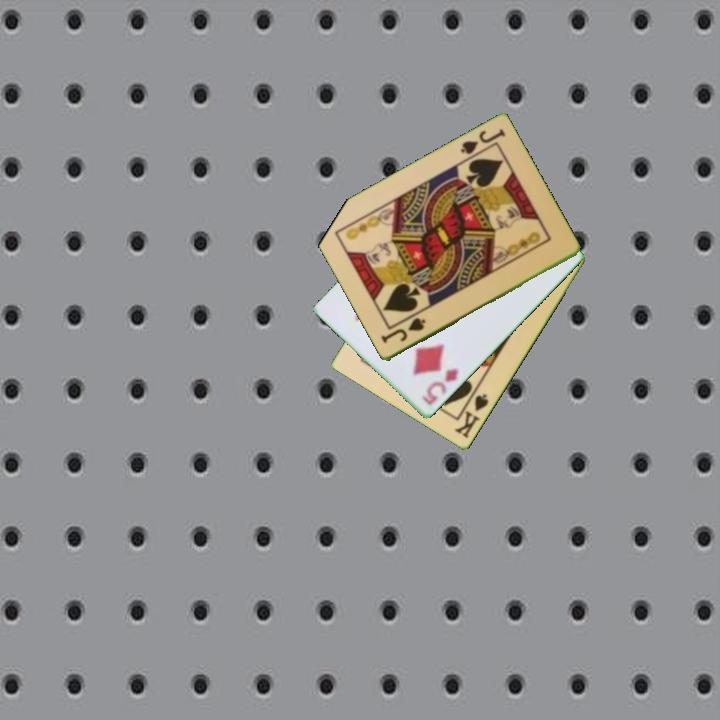5d: (418, 364, 462, 408)
Js: (378, 314, 429, 346), (457, 126, 508, 158)
Ks: (451, 386, 491, 442)
